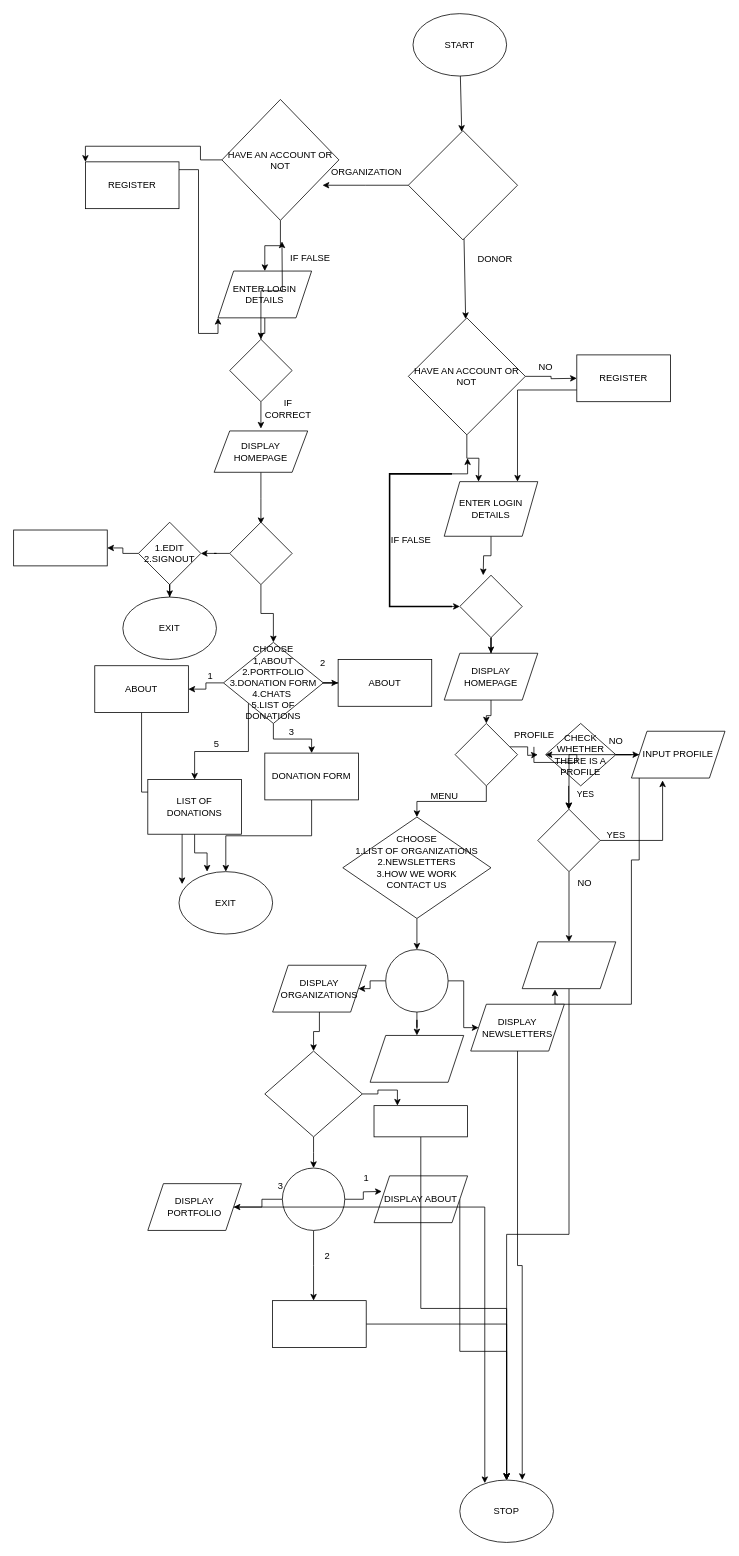
The diagram is 739 pixels wide and 1556 high, and some of its shapes have lost their labels. Each missing label, with the centre of its shape:
CHAT: (420,1121)
CHECK DETAILS: (490,606)
CHECK IF DETAILS ARE CORRECT: (260,370)
CHOOSE 1.ABOUT 2.DONATE 3.PORTFOLIO 4.CHAT: (313,1093)
CHOOSE 1.MENU 2.PROFILE: (260,553)
CHOOSE MENUOR PROFILE: (486,754)
DISPLAY CONTACT INFORMATION: (416,1058)
DISPLAY PROFILE: (568,965)
DO YOU WANT TO EDIT IT: (568,840)
DONATE: (319,1323)
EDIT PROFILE: (60,547)
LOGIN AS ORGANIZATION OR DONOR: (463,185)
